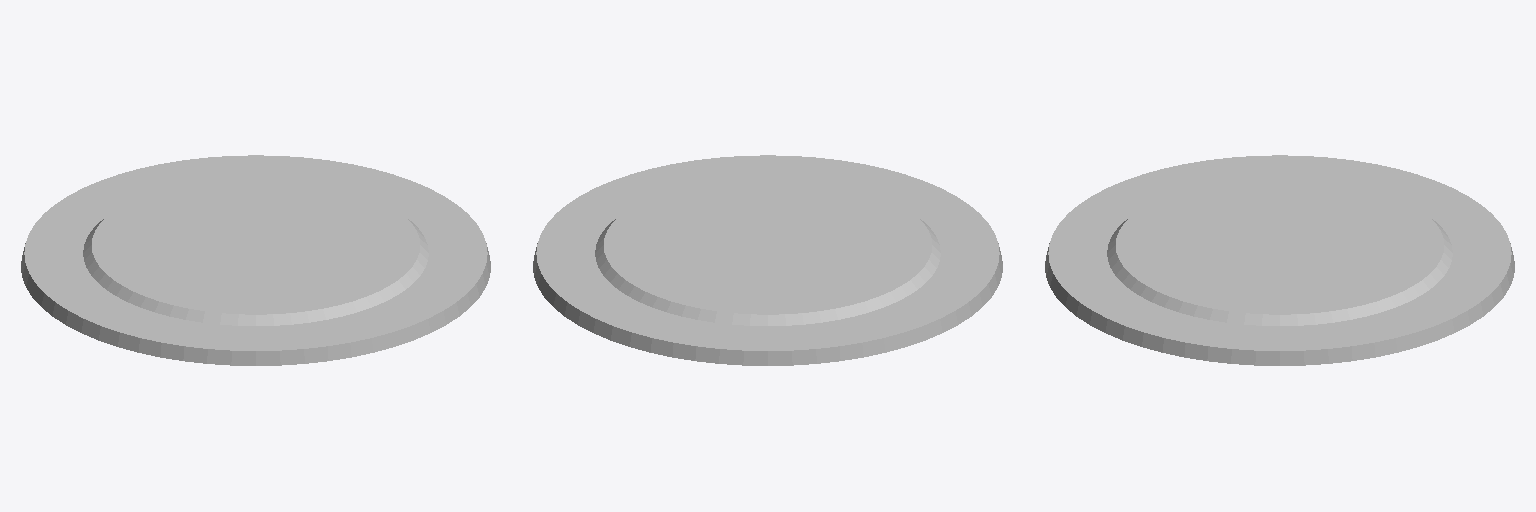
File: Portal.obj
3 views of the same model, side by side, from view 1: azimuth 30°, elevation 25°; view 2: azimuth 150°, elevation 25°; view 3: azimuth 270°, elevation 25° (orthographic).
Visible parts, largest first — view 1: Portal; view 2: Portal; view 3: Portal.
Part boxes in pixels (bbox=[...]): Portal: bbox=[21, 155, 490, 365]; Portal: bbox=[533, 155, 1002, 365]; Portal: bbox=[1045, 155, 1514, 365].
Size of the model in its own units: 590 by 29.73 by 590.